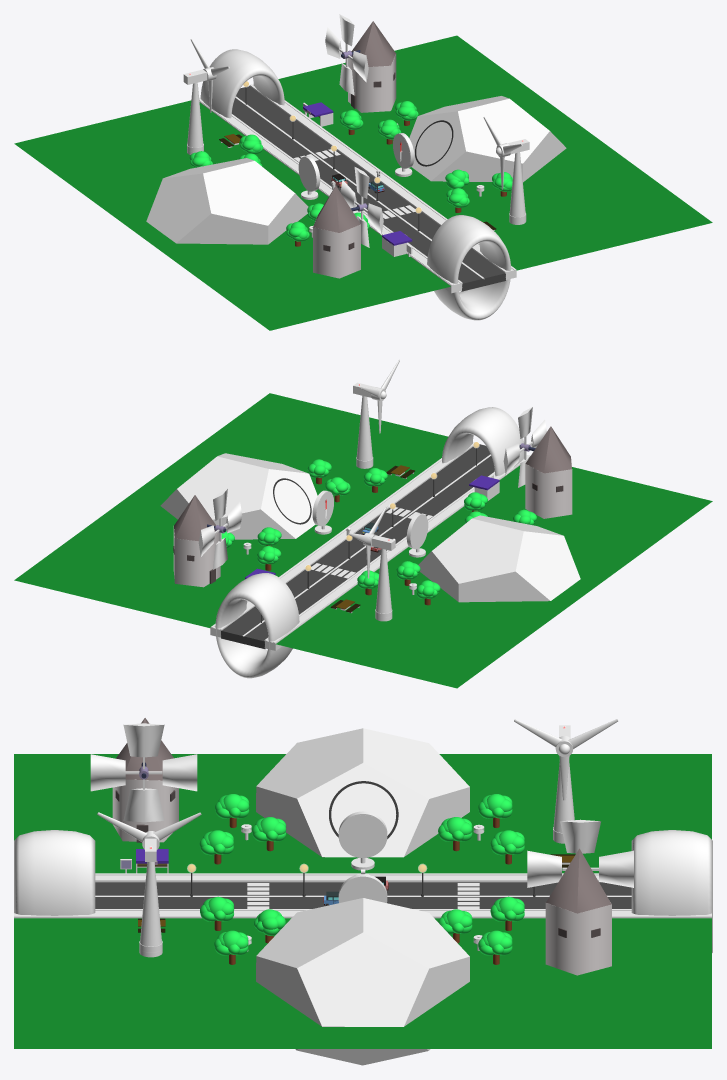
3 views of the same model, one above another, from view 1: azimuth 30°, elevation 25°; view 2: azimuth 150°, elevation 25°; view 3: azimuth 270°, elevation 25° (orthographic). The views are drawn at different scales.
Parts seen in each view (by area): view 1: Plane, Dodecahedron_1, Dodecahedron, Route, Torus_1, Torus_2, Cylinder_53, Cylinder_61, Cylinder_52, Trottoir_D, Trottoir_G, Cylinder_60 (+6 smaller); view 2: Plane, Dodecahedron_1, Dodecahedron, Route, Torus_2, Torus_1, Cylinder_53, Cylinder_61, Trottoir_G, Cylinder_52, Trottoir_D, Cylinder_60 (+4 smaller); view 3: Plane, Dodecahedron, Dodecahedron_1, Route, Torus_1, Torus_2, Cylinder_61, Cylinder_60, Trottoir_D, Cylinder_53, Trottoir_G, Wind_speed (+15 smaller).
Part boxes in pixels (x1=…): Plane: x1=14, y1=35, x2=712, y2=330; Dodecahedron_1: x1=146, y1=158, x2=308, y2=244; Dodecahedron: x1=409, y1=96, x2=566, y2=182; Route: x1=232, y1=86, x2=505, y2=291; Torus_1: x1=427, y1=215, x2=510, y2=320; Torus_2: x1=200, y1=49, x2=284, y2=118; Cylinder_53: x1=313, y1=221, x2=360, y2=278; Cylinder_61: x1=348, y1=53, x2=396, y2=112; Cylinder_52: x1=313, y1=185, x2=360, y2=232; Trottoir_D: x1=252, y1=84, x2=516, y2=279; Trottoir_G: x1=199, y1=97, x2=462, y2=293; Cylinder_60: x1=351, y1=21, x2=395, y2=66; Plane: x1=14, y1=393, x2=712, y2=688; Dodecahedron_1: x1=418, y1=515, x2=580, y2=602; Dodecahedron: x1=160, y1=453, x2=317, y2=539; Route: x1=221, y1=444, x2=494, y2=648; Torus_2: x1=215, y1=573, x2=299, y2=678; Torus_1: x1=442, y1=407, x2=524, y2=476; Cylinder_53: x1=525, y1=458, x2=572, y2=518; Cylinder_61: x1=173, y1=526, x2=220, y2=587; Trottoir_G: x1=264, y1=455, x2=527, y2=650; Cylinder_52: x1=525, y1=426, x2=571, y2=473; Trottoir_D: x1=210, y1=442, x2=474, y2=637; Cylinder_60: x1=174, y1=495, x2=218, y2=541; Plane: x1=14, y1=754, x2=711, y2=1048; Dodecahedron: x1=256, y1=898, x2=469, y2=1065; Dodecahedron_1: x1=256, y1=728, x2=469, y2=857; Route: x1=95, y1=882, x2=631, y2=908; Torus_1: x1=14, y1=830, x2=95, y2=915; Torus_2: x1=631, y1=830, x2=712, y2=952; Cylinder_61: x1=545, y1=902, x2=611, y2=975; Cylinder_60: x1=546, y1=848, x2=611, y2=913; Trottoir_D: x1=14, y1=911, x2=711, y2=918; Cylinder_53: x1=112, y1=779, x2=178, y2=842; Trottoir_G: x1=95, y1=875, x2=598, y2=878; Wind_speed: x1=339, y1=815, x2=386, y2=856.
Size of the model in its own units: 60 by 18.66 by 60.09.
